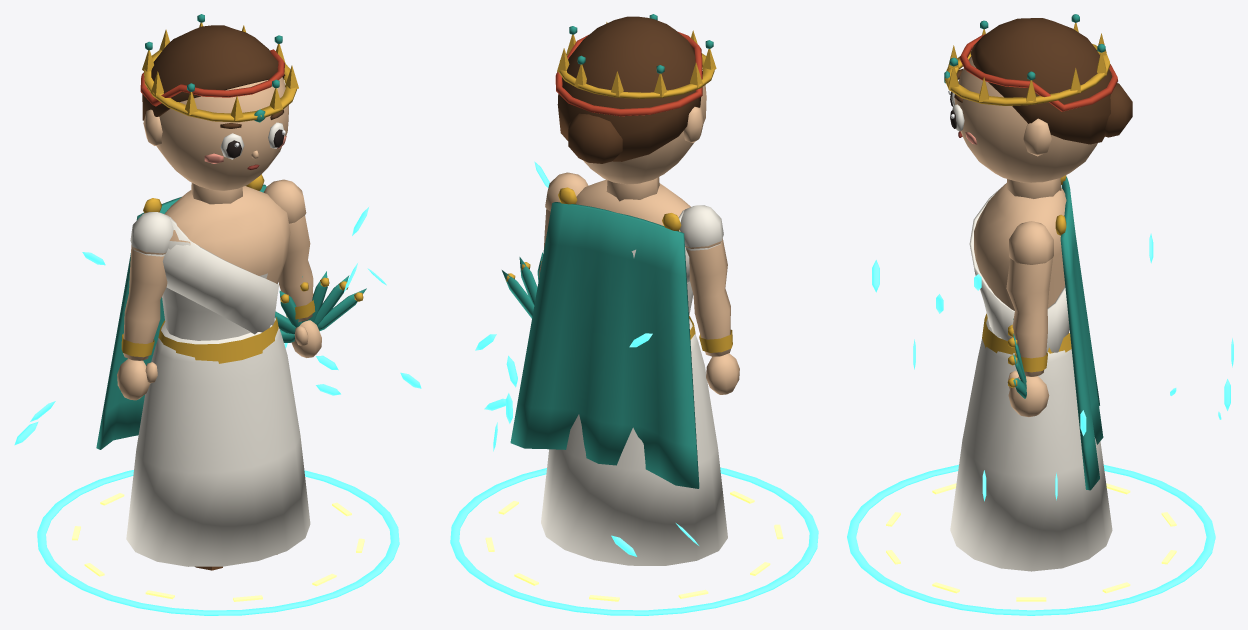
Rendered from hera.glb.
3 renders of one model, left to right at view 1: azimuth 30°, elevation 25°; view 2: azimuth 150°, elevation 25°; view 3: azimuth 270°, elevation 25°, orthographic.
Parts seen in each view (by area): view 1: huefte, rumpf, kopf, haare, armL, vfx_aura, armR, umhang, kopfschmuck, itemR; view 2: umhang, huefte, haare, armL, vfx_aura, kopf, rumpf, kopfschmuck, itemR, armR, vfx_federn_1; view 3: huefte, haare, rumpf, kopf, armR, vfx_aura, umhang, kopfschmuck, itemR.
Boxes of the visible parts, x1,y1,x2,y2 form: huefte: (126,317,310,566); rumpf: (158,186,290,363); kopf: (143,77,288,204); haare: (140,25,285,120); armL: (117,212,173,400); vfx_aura: (37,470,399,615); armR: (263,179,321,357); umhang: (96,174,266,449); kopfschmuck: (142,14,298,122); itemR: (275,271,366,342); umhang: (510,187,699,488); huefte: (541,319,727,565); haare: (555,16,702,163); armL: (679,205,739,394); vfx_aura: (450,467,818,615); kopf: (583,85,706,201); rumpf: (576,179,695,339); kopfschmuck: (557,14,716,98); itemR: (502,252,543,318); armR: (539,172,588,277); vfx_federn_1: (475,333,652,423); huefte: (950,318,1112,571); haare: (959,18,1132,144); rumpf: (969,183,1071,354); kopf: (954,56,1097,198); armR: (1006,221,1053,417); vfx_aura: (847,464,1215,615); umhang: (1055,175,1103,490); kopfschmuck: (944,14,1110,105); itemR: (1008,319,1026,398).
Size of the model in its own units: 1.58 by 2.29 by 1.55.
